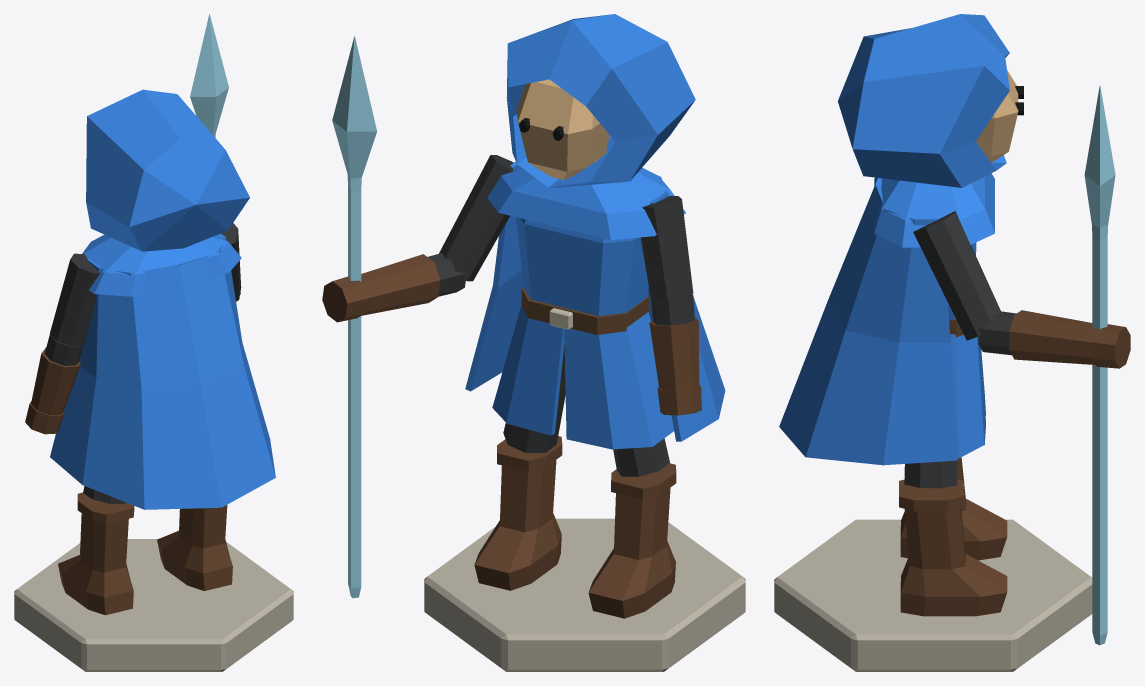
File: human_frostwarden_t1.glb
The picture shows the model from 3 angles, left to right: view 1: azimuth 30°, elevation 25°; view 2: azimuth 150°, elevation 25°; view 3: azimuth 270°, elevation 25°; orthographic projection. The views are drawn at different scales.
Parts seen in each view (by area): view 1: Broad_Pointed_Back_Cape, Foundation_Hexagonal_Stone, Pointed_Open_Hood_Shell, Boot_-1, Continuous_Shoulder_Mantle, Boot_1, left_upper_sleeve, frost_entire_continuous_ice_spear, left_bracer, Boot_Cuff_-1, left_lower_sleeve, left_glove_mitten (+1 smaller); view 2: Foundation_Hexagonal_Stone, Pointed_Open_Hood_Shell, Continuous_Tunic_Bodice, frost_entire_continuous_ice_spear, Continuous_Shoulder_Mantle, Continuous_Split_Tunic_Skirt, Boot_1, Boot_-1, Broad_Pointed_Back_Cape, Angular_Face, Split_Tunic_Front_1, Split_Tunic_Front_-1 (+13 smaller); view 3: Broad_Pointed_Back_Cape, Foundation_Hexagonal_Stone, Pointed_Open_Hood_Shell, frost_entire_continuous_ice_spear, Boot_1, Continuous_Shoulder_Mantle, right_upper_sleeve, right_bracer, Continuous_Split_Tunic_Skirt, Boot_-1, Angular_Face, Boot_Cuff_1 (+3 smaller).
Boxes of the visible parts, <box> form: Broad_Pointed_Back_Cape: <box>50,233,275,509</box>; Foundation_Hexagonal_Stone: <box>14,539,293,671</box>; Pointed_Open_Hood_Shell: <box>86,89,249,251</box>; Boot_-1: <box>58,513,133,615</box>; Continuous_Shoulder_Mantle: <box>82,234,241,296</box>; Boot_1: <box>157,505,232,590</box>; left_upper_sleeve: <box>50,253,100,346</box>; frost_entire_continuous_ice_spear: <box>190,14,228,137</box>; left_bracer: <box>31,347,80,415</box>; Boot_Cuff_-1: <box>77,492,134,523</box>; left_lower_sleeve: <box>44,334,83,365</box>; left_glove_mitten: <box>25,401,64,434</box>; Foundation_Hexagonal_Stone: <box>424,518,745,671</box>; Pointed_Open_Hood_Shell: <box>506,14,695,187</box>; Continuous_Tunic_Bodice: <box>516,217,648,315</box>; frost_entire_continuous_ice_spear: <box>332,36,376,598</box>; Continuous_Shoulder_Mantle: <box>487,164,685,240</box>; Continuous_Split_Tunic_Skirt: <box>492,305,673,449</box>; Boot_1: <box>474,460,561,590</box>; Boot_-1: <box>588,487,675,618</box>; Broad_Pointed_Back_Cape: <box>465,161,725,441</box>; Angular_Face: <box>516,79,609,179</box>; Split_Tunic_Front_1: <box>506,318,564,435</box>; Split_Tunic_Front_-1: <box>564,328,613,449</box>; Broad_Pointed_Back_Cape: <box>779,178,957,465</box>; Foundation_Hexagonal_Stone: <box>774,519,1092,671</box>; Pointed_Open_Hood_Shell: <box>838,14,1009,187</box>; frost_entire_continuous_ice_spear: <box>1084,86,1115,645</box>; Boot_1: <box>900,508,1007,616</box>; Continuous_Shoulder_Mantle: <box>874,173,994,247</box>; right_upper_sleeve: <box>913,211,1000,340</box>; right_bracer: <box>1009,310,1096,364</box>; Continuous_Split_Tunic_Skirt: <box>950,334,983,458</box>; Boot_-1: <box>900,457,1007,560</box>; Angular_Face: <box>976,70,1018,162</box>; Boot_Cuff_1: <box>899,479,964,511</box>.
Size of the model in its own units: 1 by 1.92 by 1.03.
